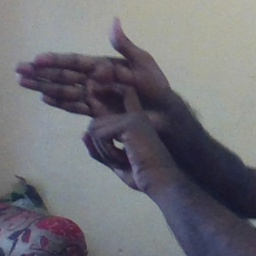R: (16, 13, 179, 177)
